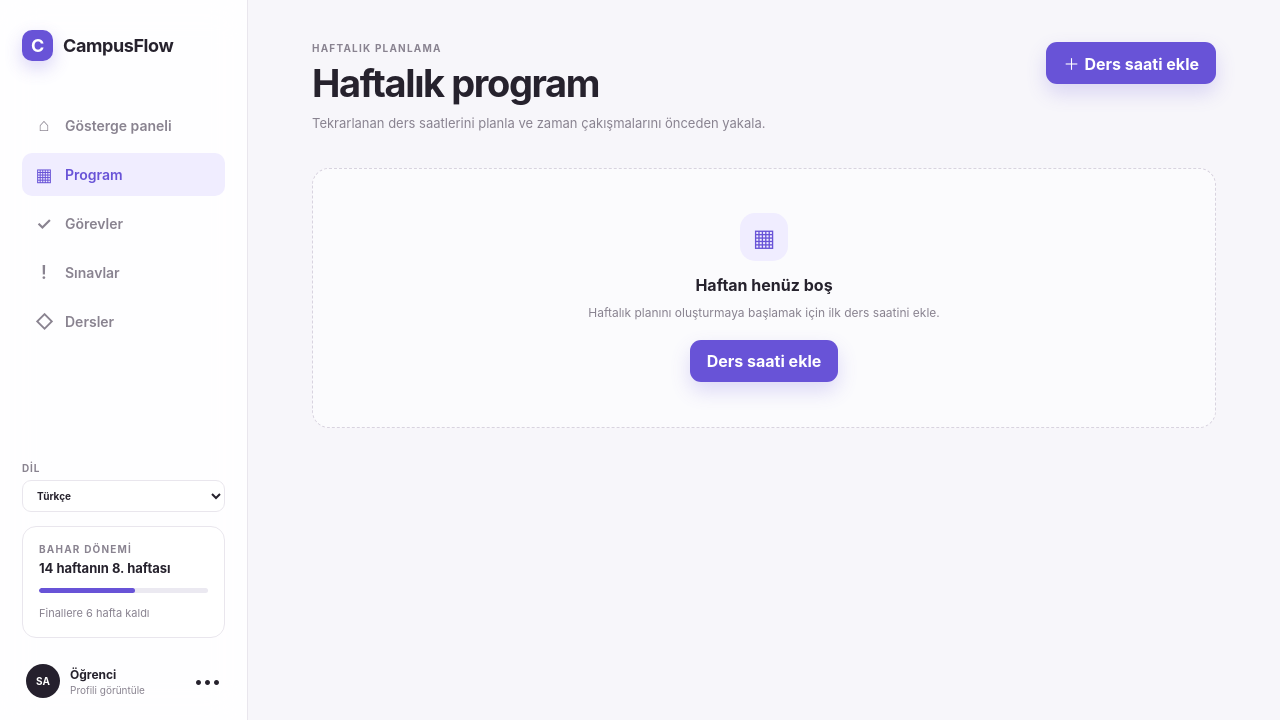
it: CampusFlow web application › creates a weekly schedule entry
This screenshot has width=1280, height=720.
Expected: the text "Haftan henüz boş" is shown, [695,275,833,295]
Click the button "Ders saati ekle": (764, 361) [690,340,838,382]
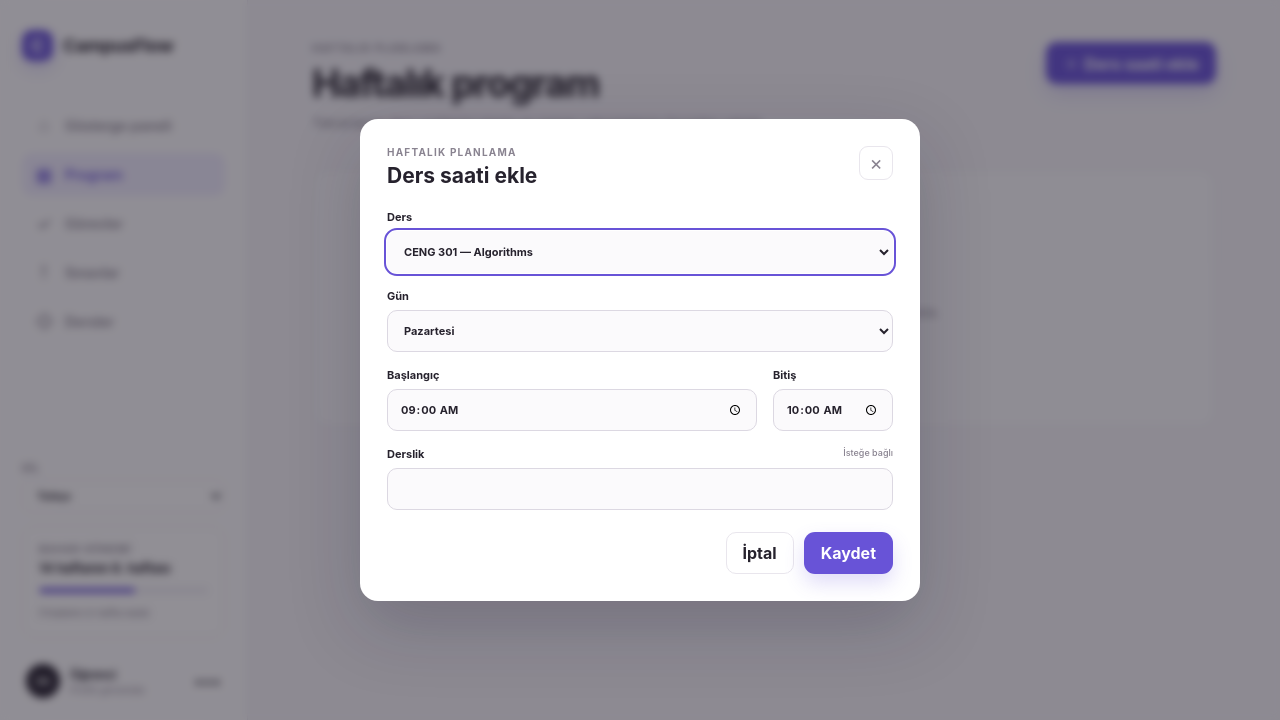
Select "Çarşamba" in the dropdown labelled "Gün": (640, 331) [387,310,893,352]
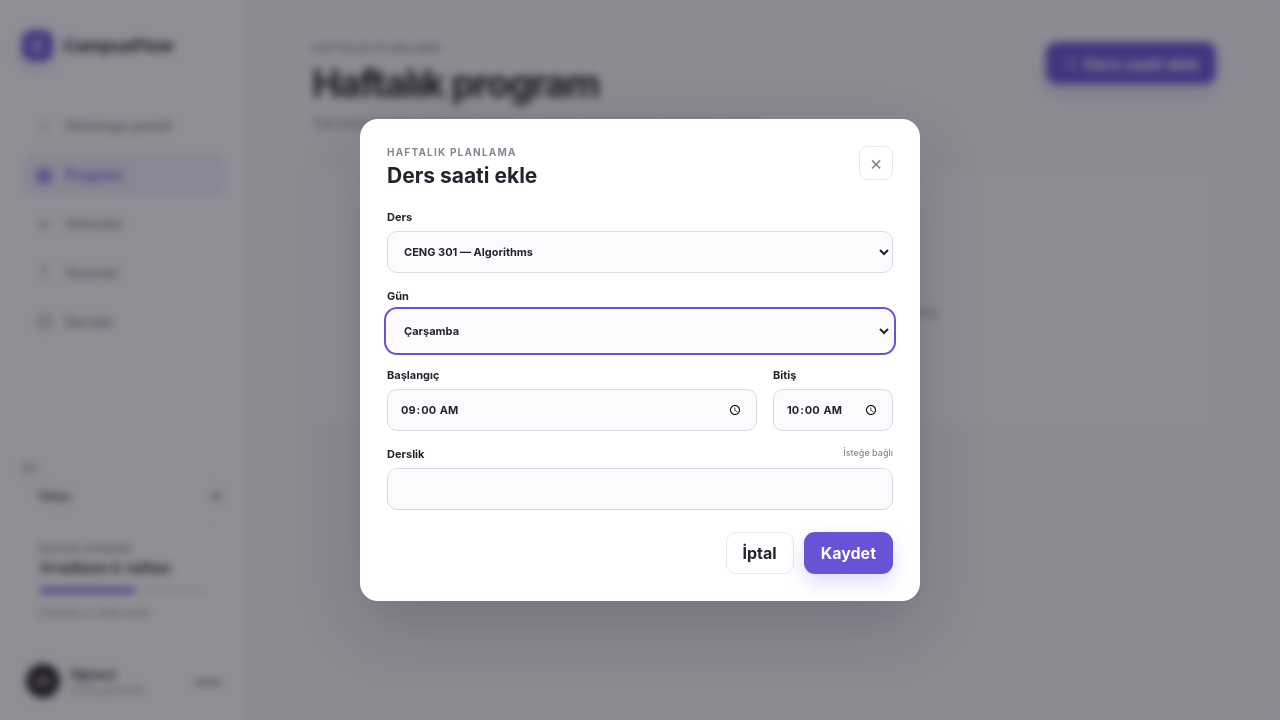
Replace the text in the time field labelled "Başlangıç" with "09:30": (572, 410) [387,389,757,431]
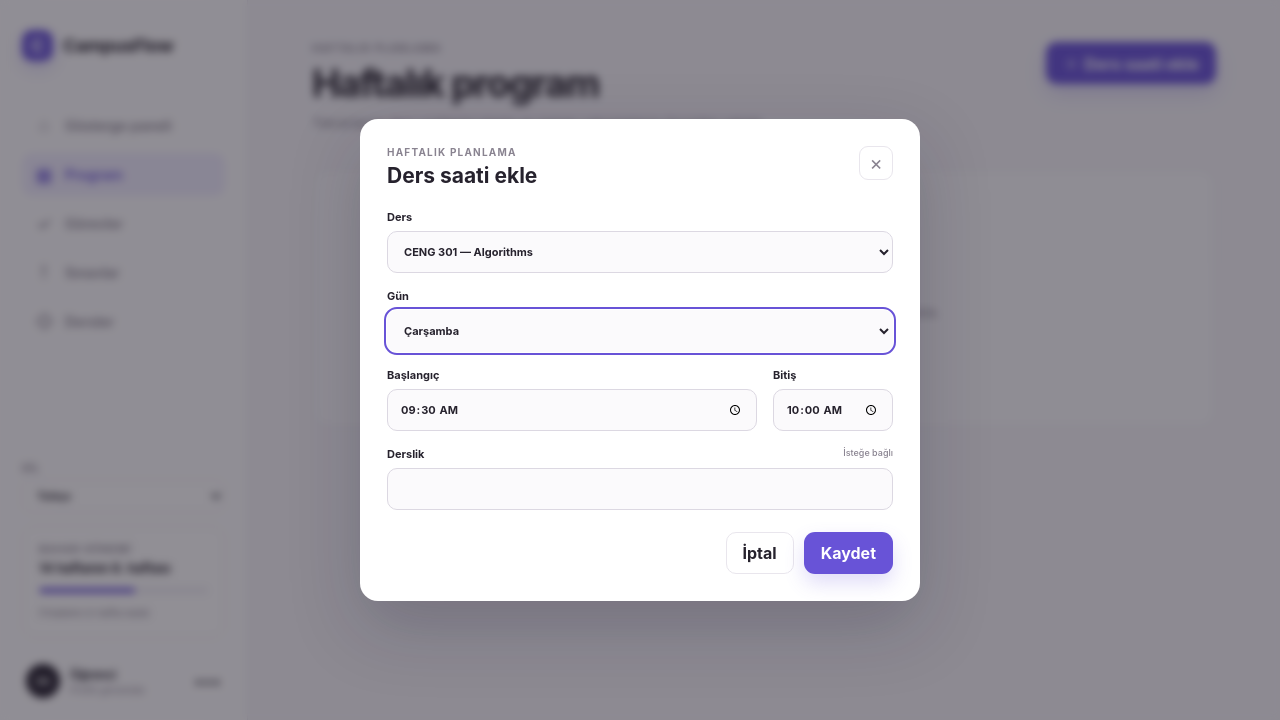
Replace the text in the time field labelled "Bitiş" with "11:00": (833, 410) [773,389,893,431]
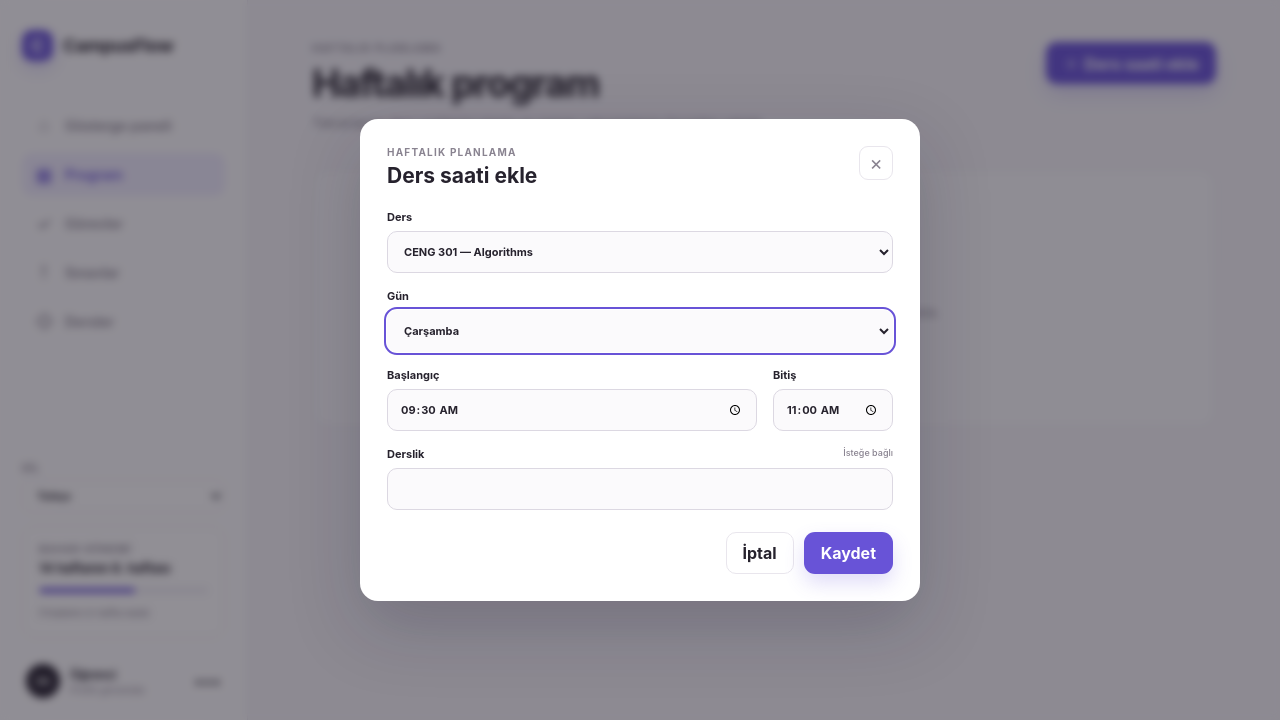
Click the button "Kaydet": (848, 553) [804,532,893,574]
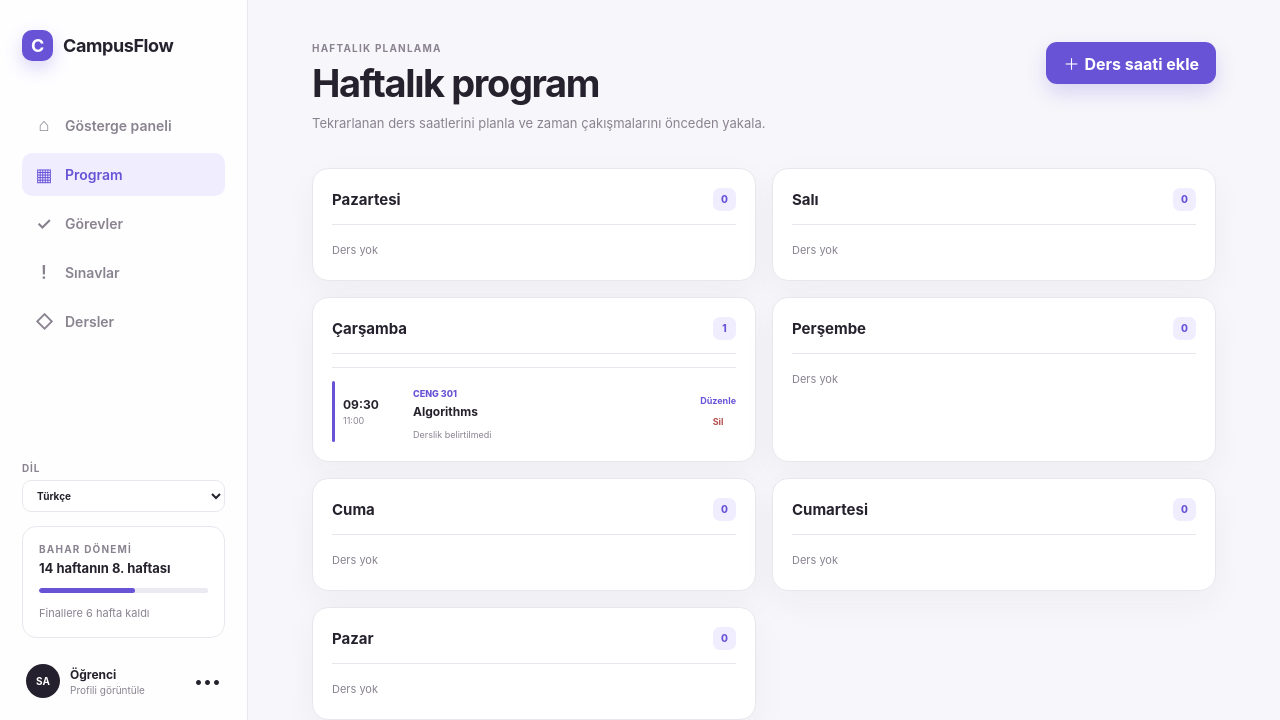
Now the heading "Algorithms" is shown, box [413,404,478,418]
Now the text "09:30" is shown, box [343,396,379,412]
Now the heading "Çarşamba" is shown, box [332,318,407,338]
